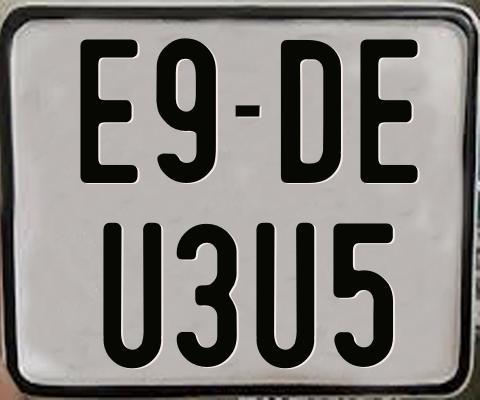3: (175, 223, 236, 367)
5: (333, 222, 394, 372)
9: (155, 35, 220, 186)
D: (278, 38, 343, 184)
E: (78, 36, 140, 182), (358, 38, 420, 182)
U: (100, 221, 162, 369), (256, 221, 316, 371)
